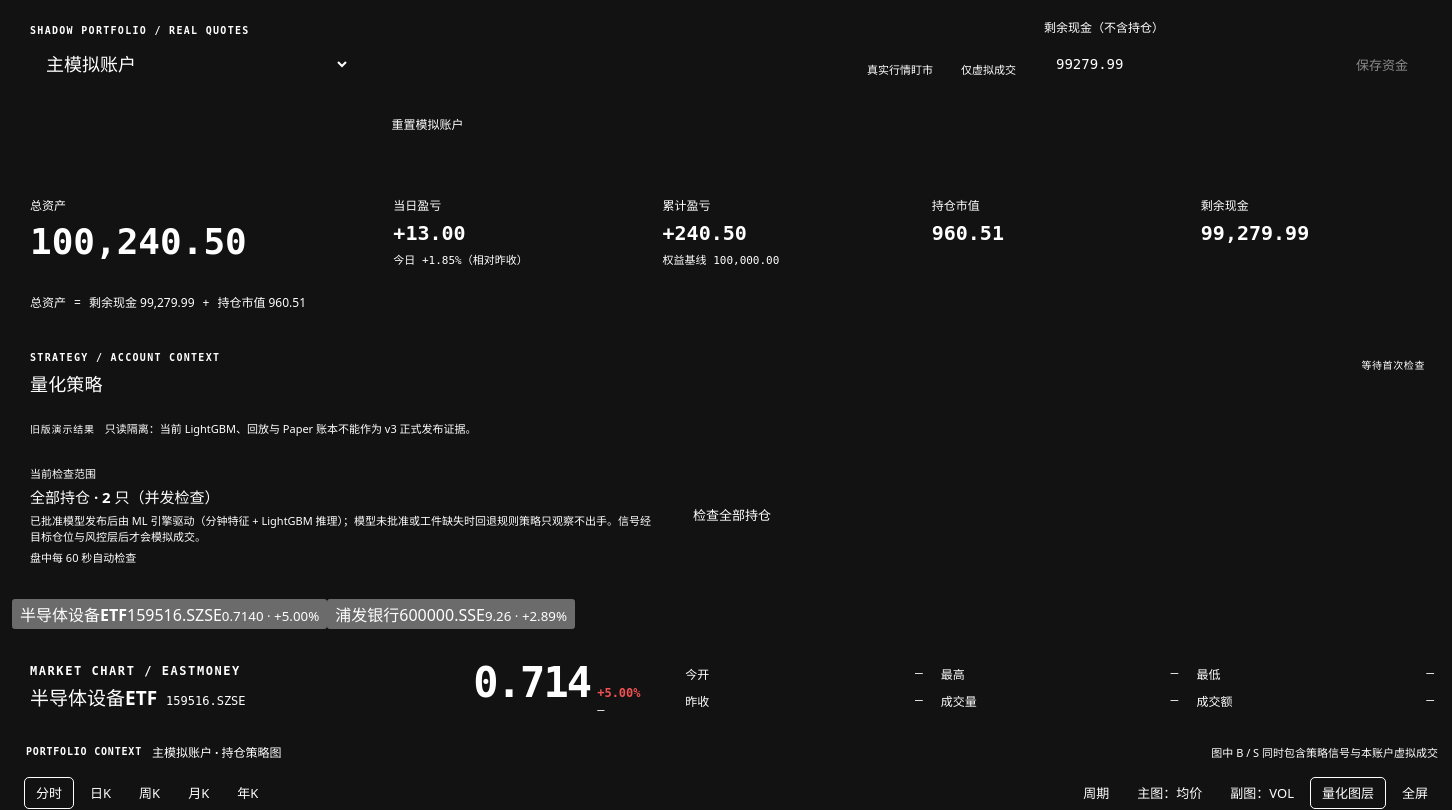
Test: strategy console scans all holdings concurrently and hides engineering parameters
Check: the text "全部持仓 · 2 只（并发检查）" is shown, box x1=30 y1=486 x2=220 y2=506
Click the button "检查全部持仓".
click(732, 514)  # box x1=678 y1=494 x2=786 y2=536
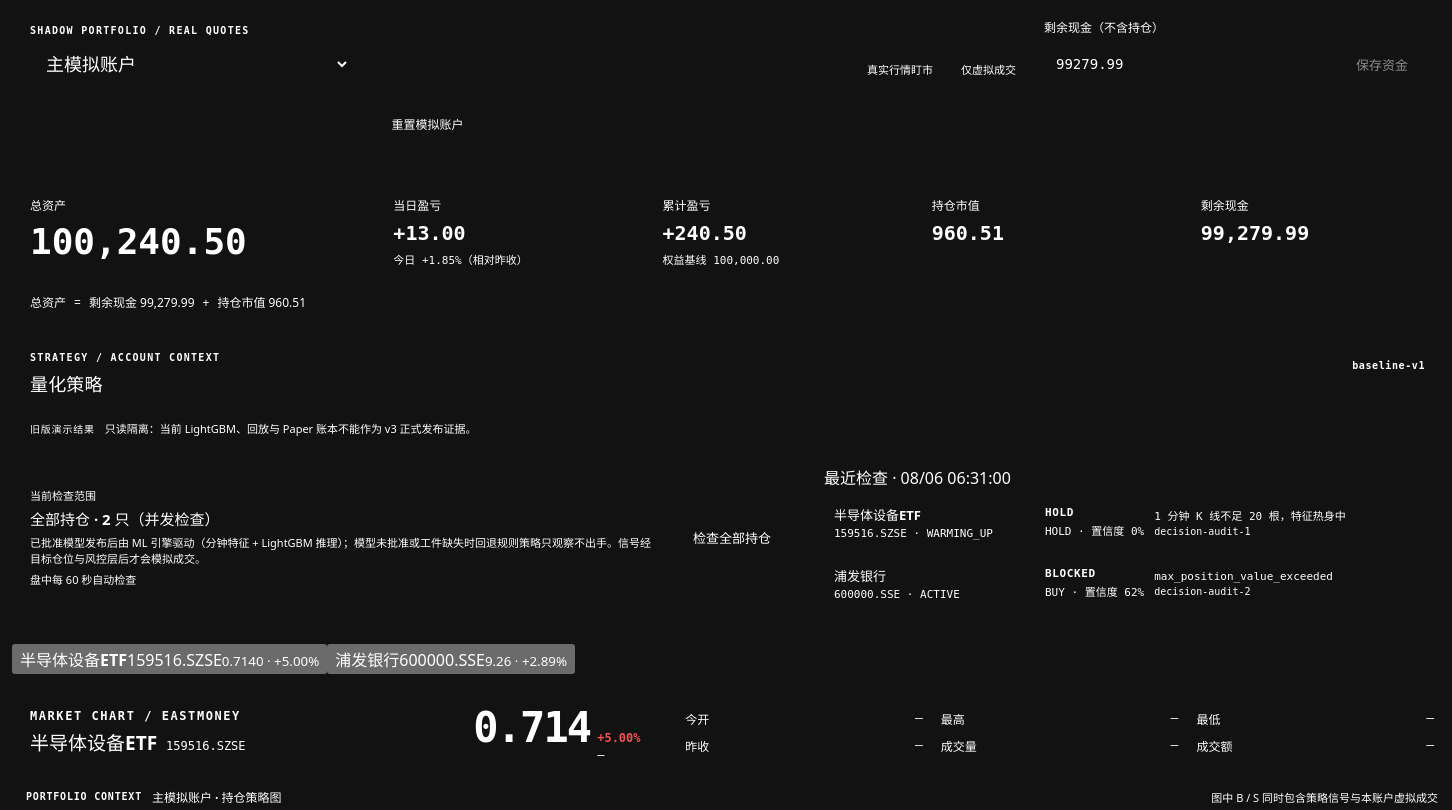
Check: the text "HOLD" is shown, box x1=1045 y1=506 x2=1074 y2=519
Check: the text "BLOCKED" is shown, box x1=1045 y1=567 x2=1096 y2=580
Check: the text "半导体设备ETF" in the row of "1 分钟 K 线不足 20 根，特征热身中" is shown, box x1=834 y1=506 x2=921 y2=524
